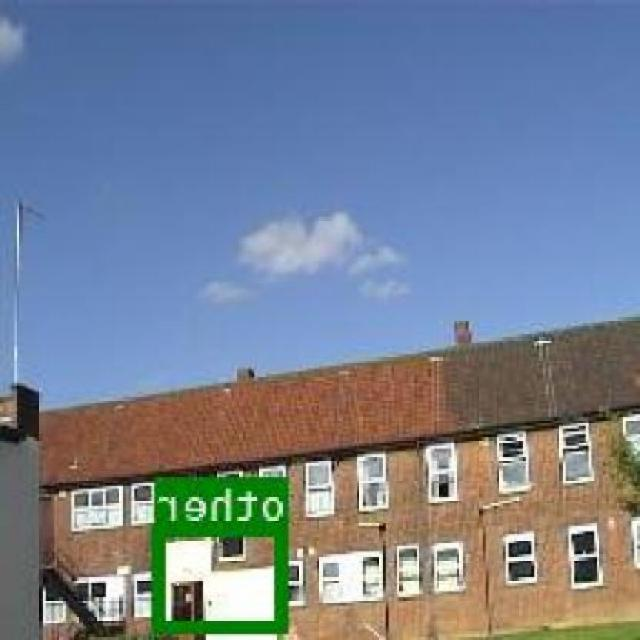other: (157, 520, 291, 628)
